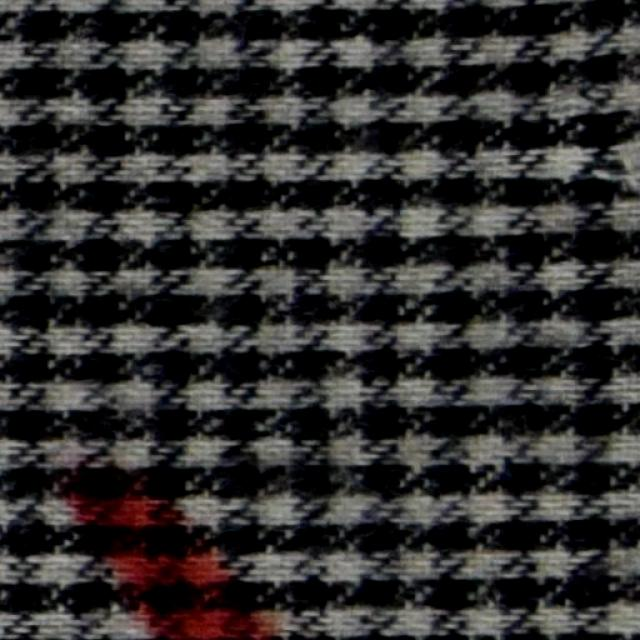Stain: (71, 454, 268, 640)
